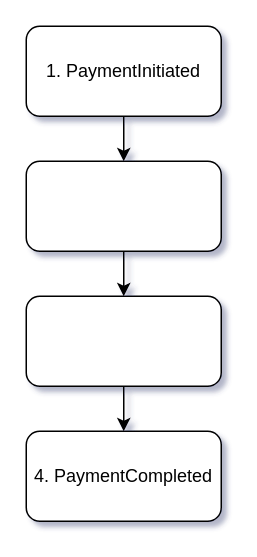
This 257x557 diagram has some shape labels left out. The centre of each missing label's shape, as x and y in pixels:
"2. PaymentCreated" goes at point 123,205.
"3. PaymentSettled" goes at point 123,340.
